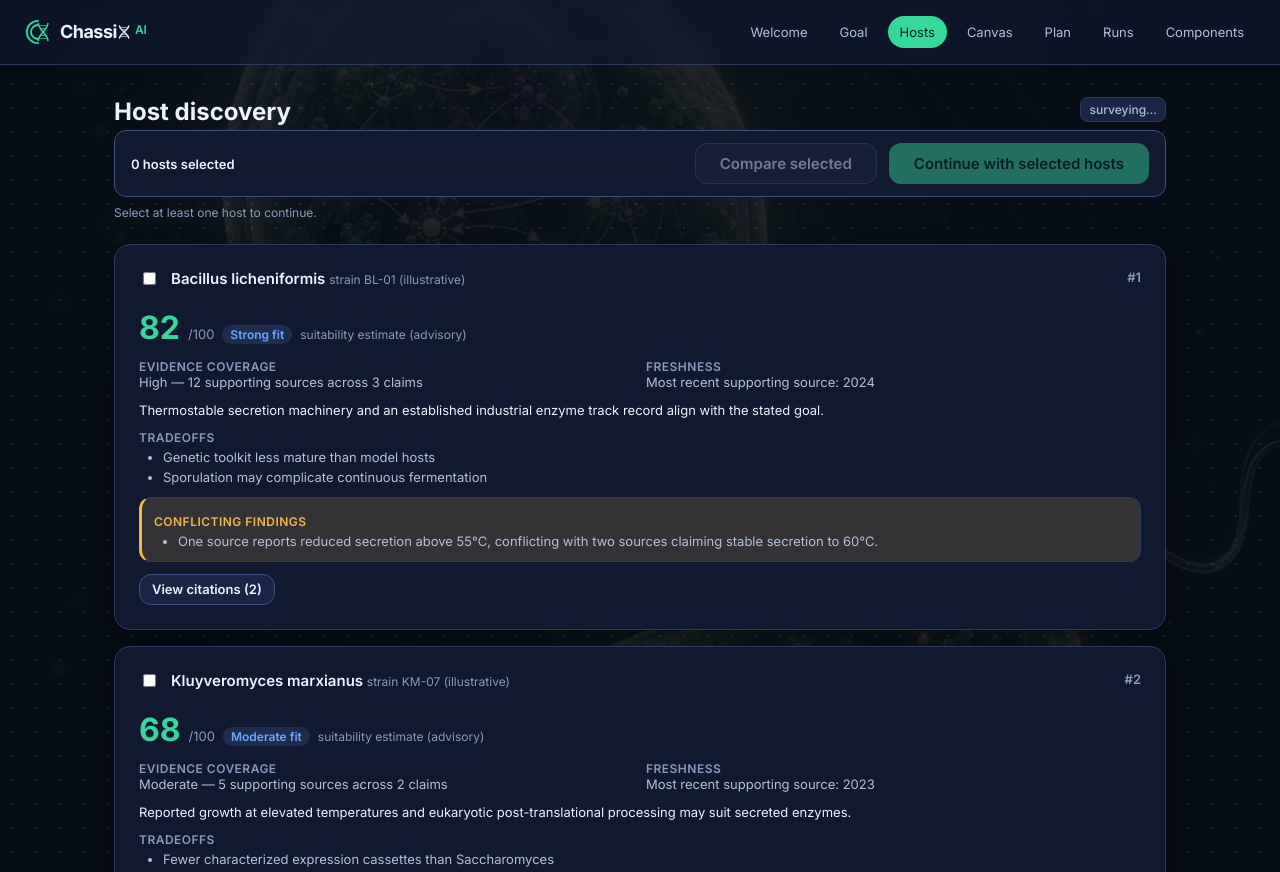
Test case: HostDiscoveryPage (Step 2.3, Screen 2 / BF-02) › shows a compare view with at least two hosts side by side
Expected: the button "Compare selected" is disabled, [695,143,877,184]
Click the checkbox labelled "Bacillus licheniformis strain BL-01 (illustrative)" at (150, 278), box [143,272,156,285]
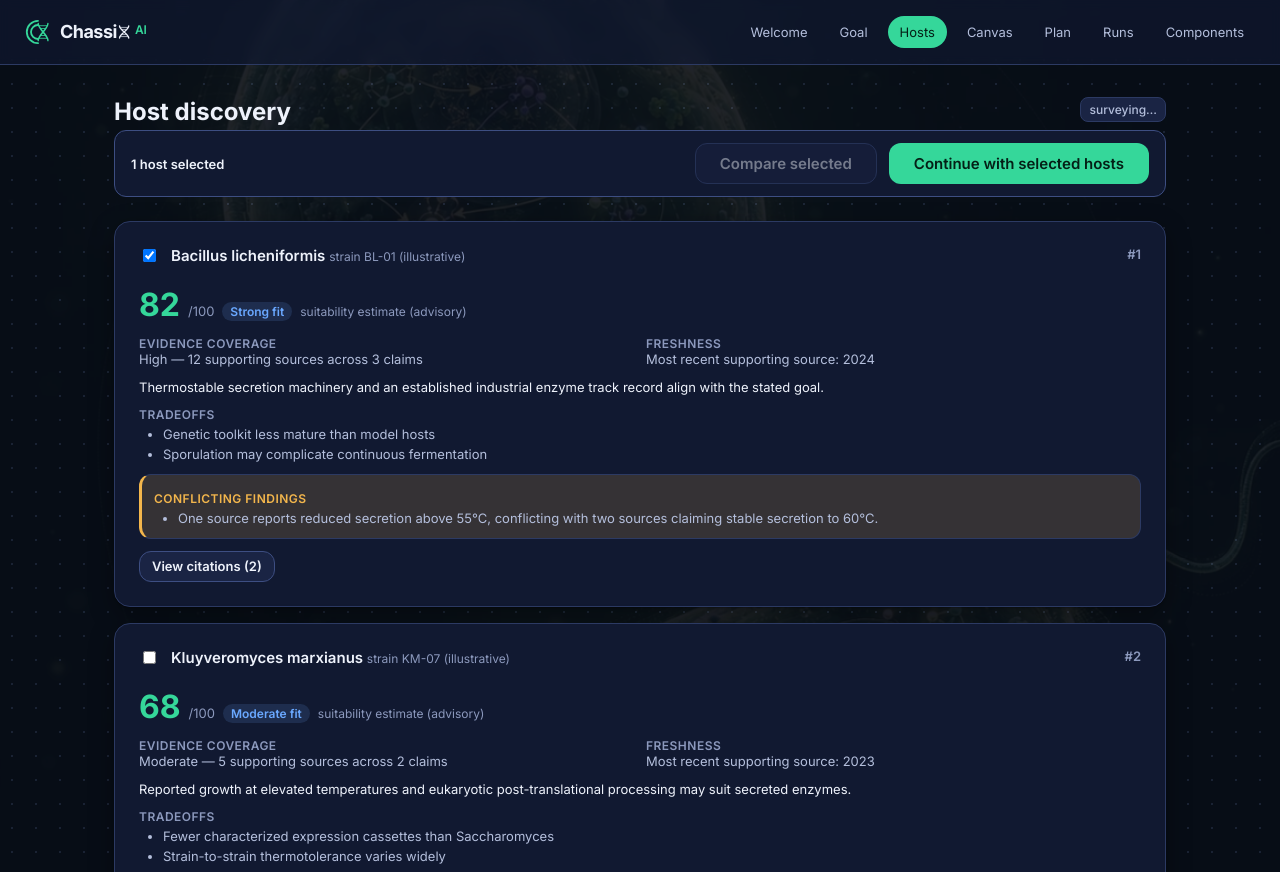
Click the checkbox labelled "Kluyveromyces marxianus strain KM-07 (illustrative)" at (150, 658), box [143,651,156,664]
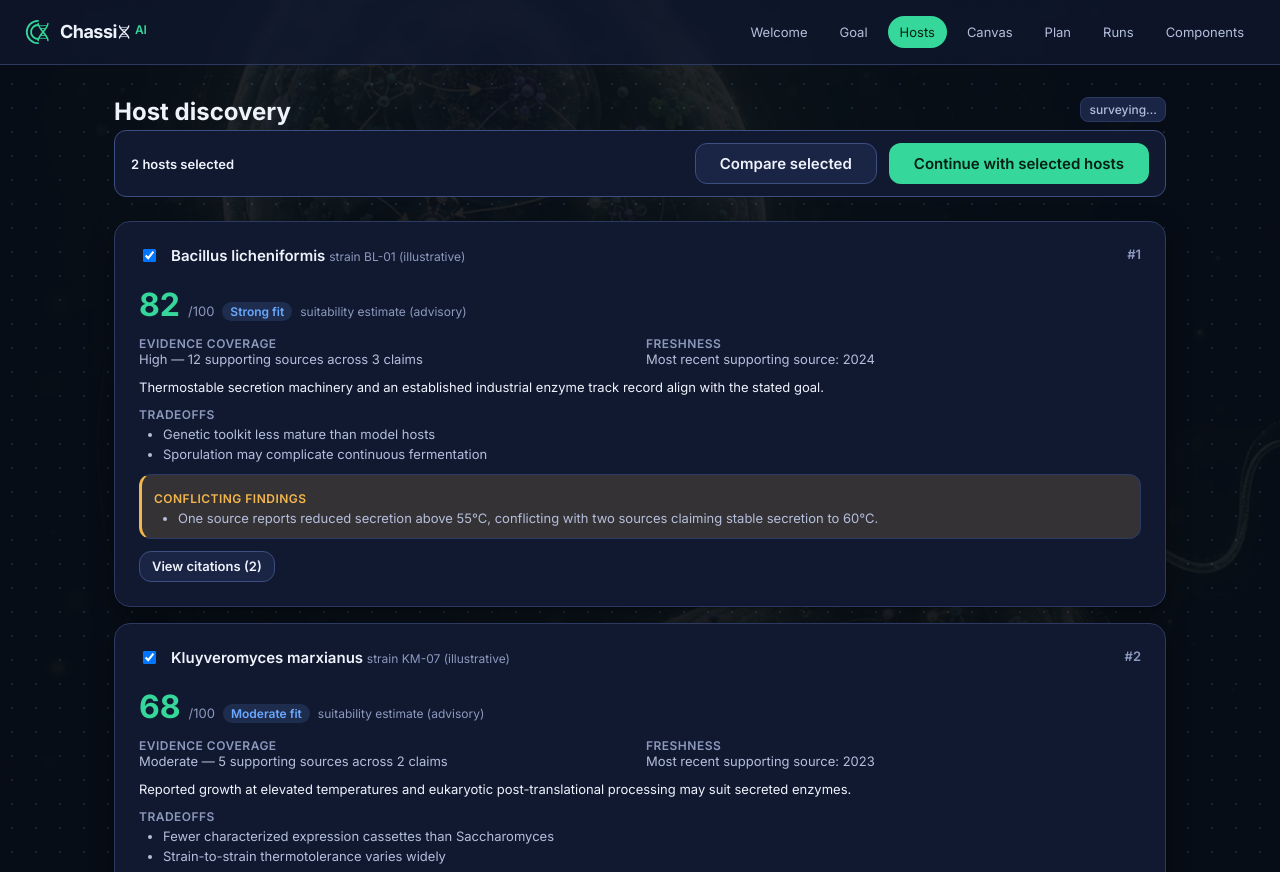
Result: the button "Compare selected" is enabled
Click the button "Compare selected" at (786, 164), box [695,143,877,184]
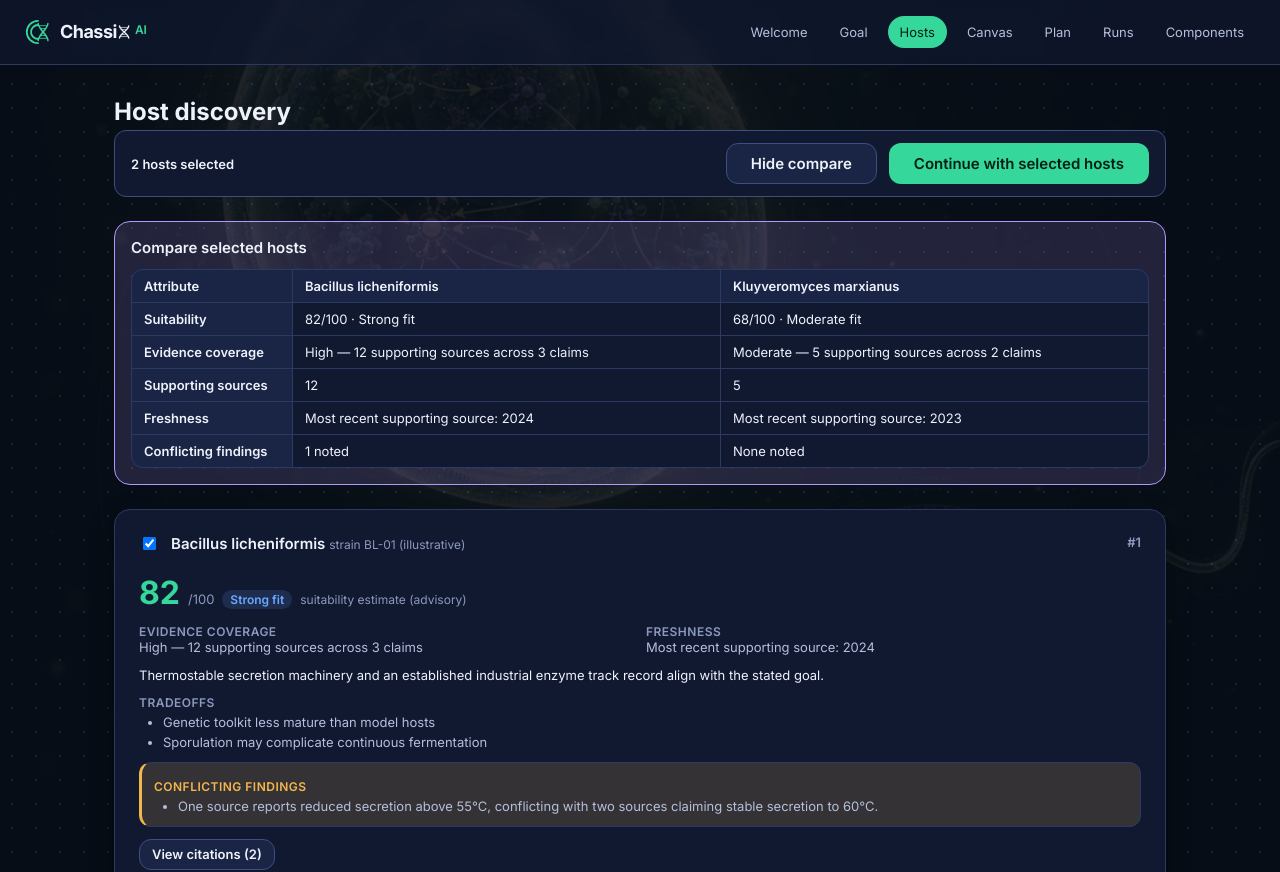
Result: the column heading "Bacillus licheniformis" is shown at [293,270,720,302]
Result: the column heading "Kluyveromyces marxianus" is shown at [721,270,1148,302]
